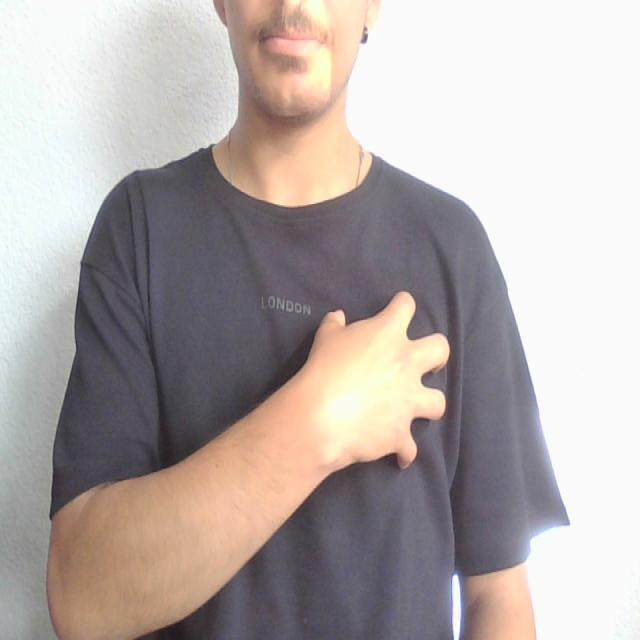Anne: (138, 282, 496, 514)
